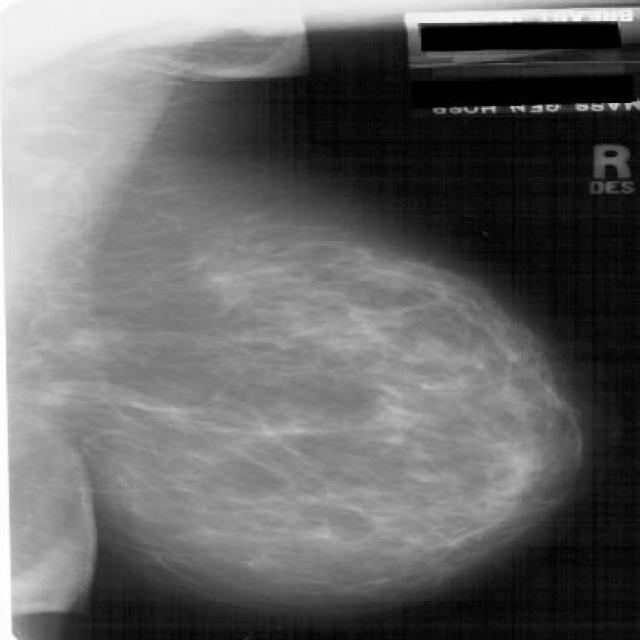tumor: (370, 354, 552, 553)
